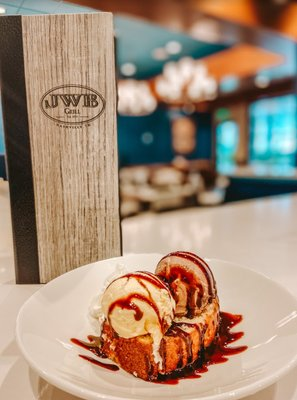curry: (0, 189, 297, 398)
sushi: (98, 250, 221, 382)
